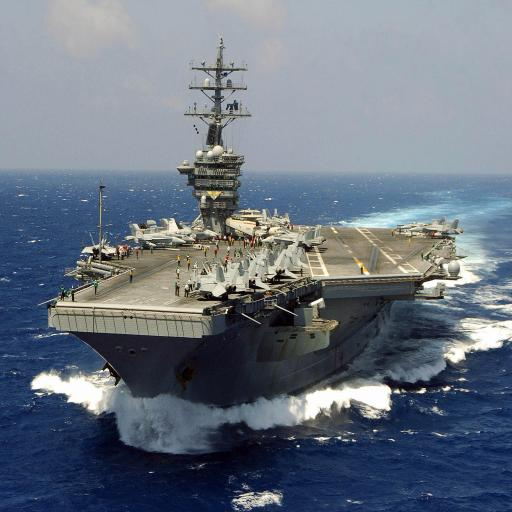Portanaves: (45, 35, 468, 426)
